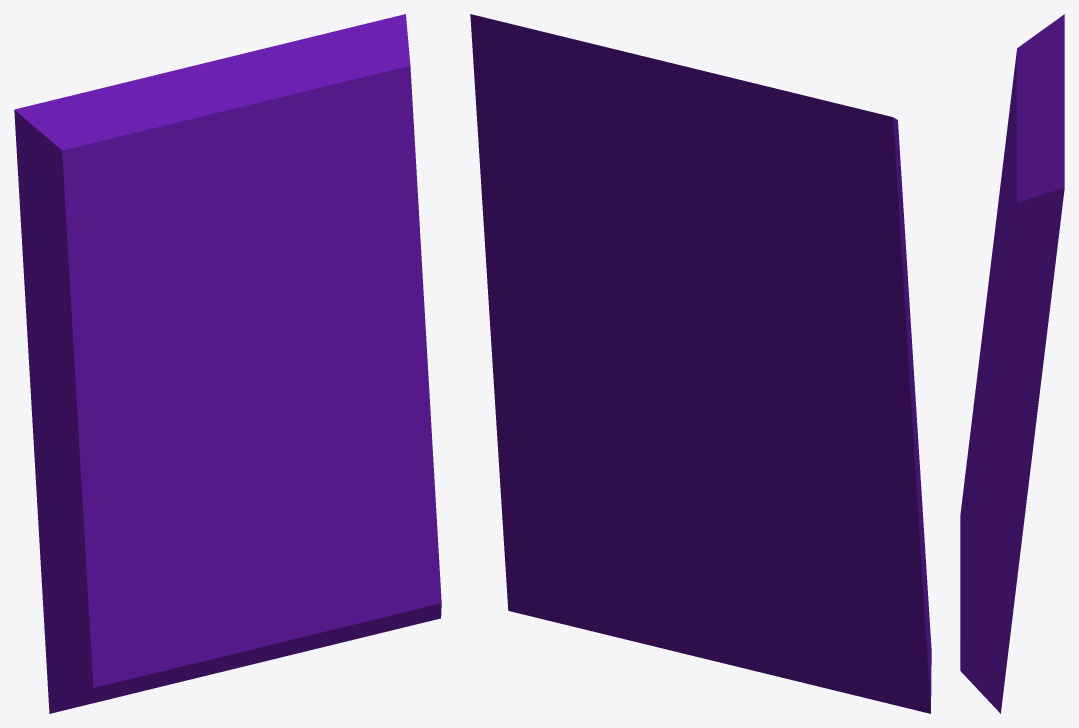
The model's file is SeatPouch_110.003.fbx.
3 views of the same model, side by side, from view 1: azimuth 30°, elevation 25°; view 2: azimuth 150°, elevation 25°; view 3: azimuth 270°, elevation 25° (orthographic). The views are drawn at different scales.
Visible parts, largest first — view 1: SeatPouch_110.003; view 2: SeatPouch_110.003; view 3: SeatPouch_110.003.
Boxes of the visible parts, bbox=[...] form: SeatPouch_110.003: bbox=[14, 14, 441, 713]; SeatPouch_110.003: bbox=[470, 14, 931, 713]; SeatPouch_110.003: bbox=[960, 14, 1064, 713].
Size of the model in its own units: 237 by 334 by 60.11.
